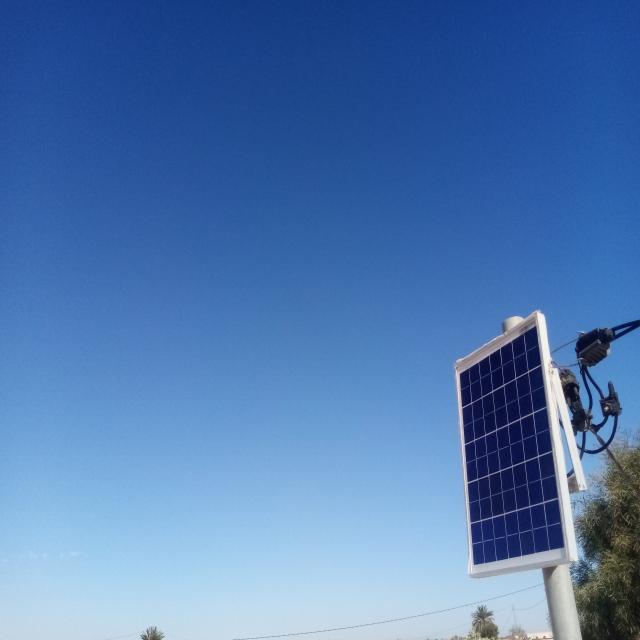no faulty: (456, 313, 571, 577)
